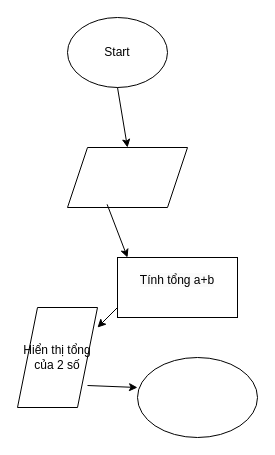
This 275x455 diagram has some shape labels left out. Each missing label, with the box of its shape:
END: (136, 356, 258, 438)
Nhập 2 số a,b: (66, 146, 188, 208)
